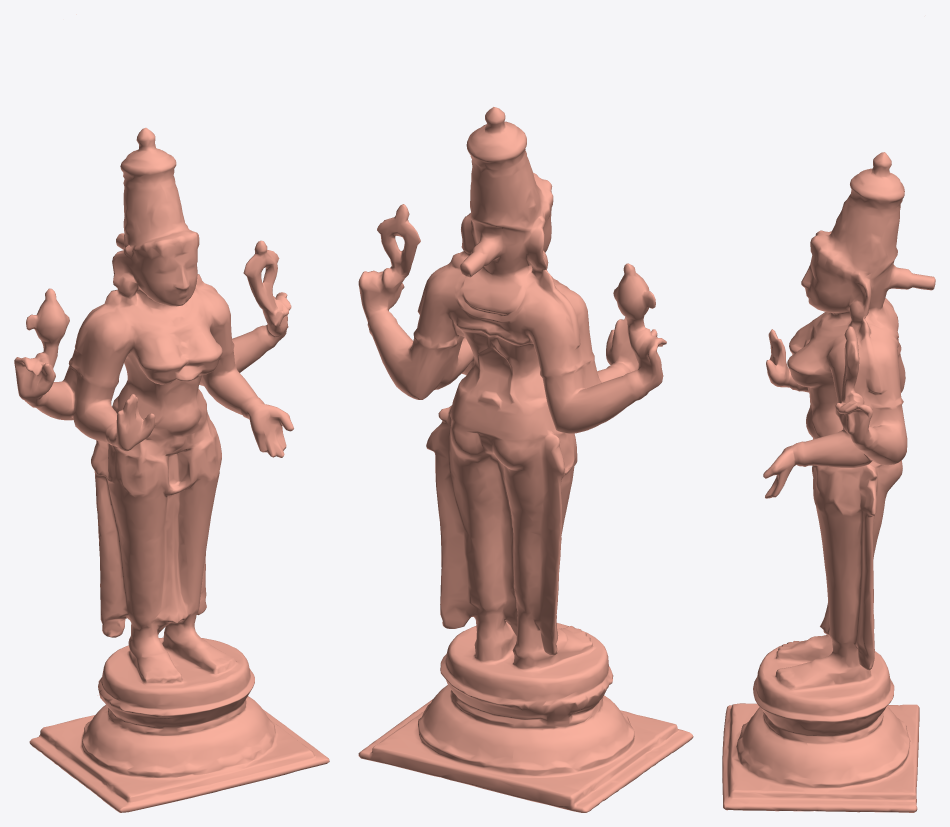
The model's file is Amman_Sowdeshwari_05.glb.
The picture shows the model from 3 angles, left to right: view 1: azimuth 30°, elevation 25°; view 2: azimuth 150°, elevation 25°; view 3: azimuth 270°, elevation 25°; orthographic projection. The views are drawn at different scales.
Parts seen in each view (by area): view 1: Amman_Sowdeshwari_05; view 2: Amman_Sowdeshwari_05; view 3: Amman_Sowdeshwari_05.
Boxes of the visible parts, box(x1,y1,x2,y2) form: Amman_Sowdeshwari_05: box(14, 14, 329, 812); Amman_Sowdeshwari_05: box(358, 107, 693, 812); Amman_Sowdeshwari_05: box(722, 152, 935, 812).
Size of the model in its own units: 0.3369 by 0.852 by 0.2289.
